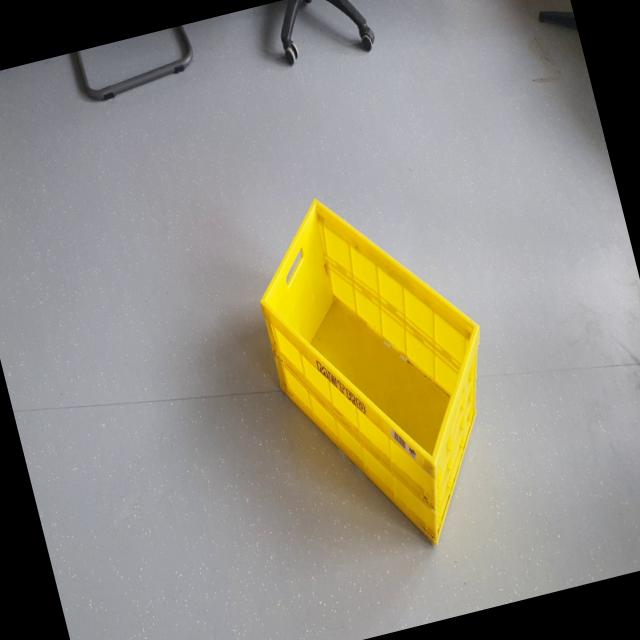box: (227, 153, 540, 600)
